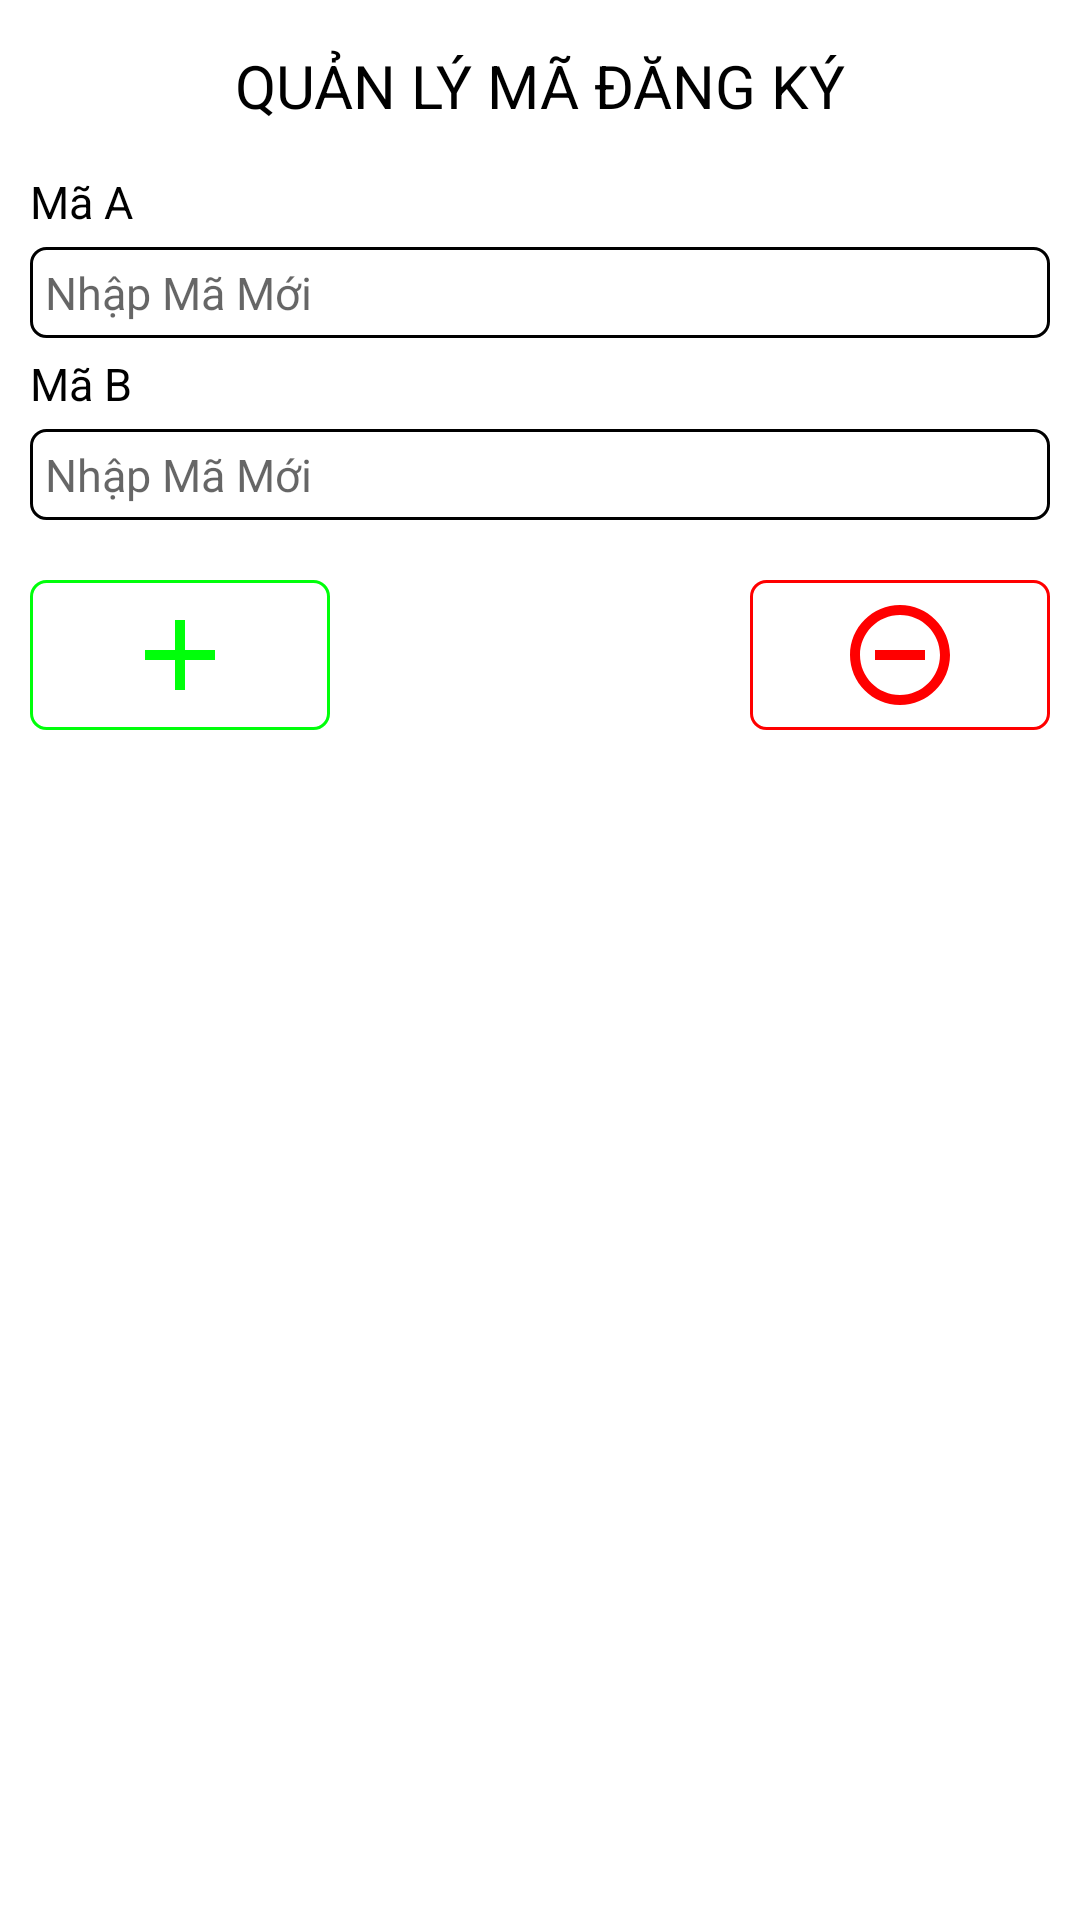

Locate icon controls on the screen. Image size 1080px x 1920px, boxes as [x1, y1, x2, y2].
add: [30, 580, 330, 730]
iconcancel: [750, 580, 1050, 730]
